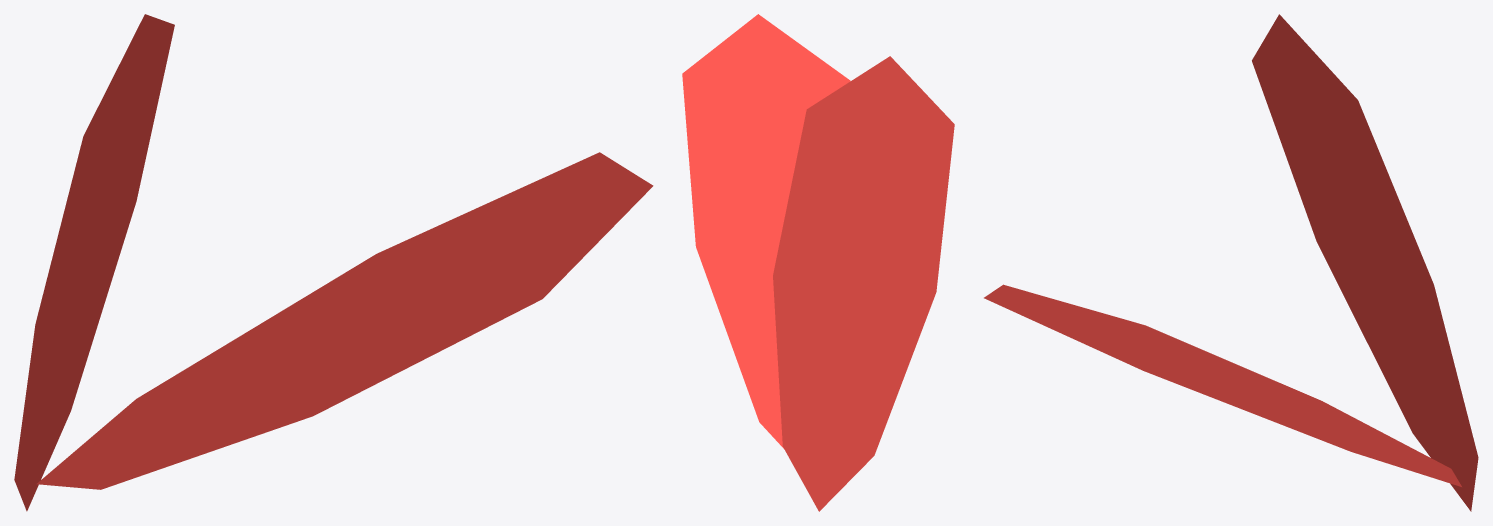
The model's file is birdfeather.fbx.
3 views of the same model, side by side, from view 1: azimuth 30°, elevation 25°; view 2: azimuth 150°, elevation 25°; view 3: azimuth 270°, elevation 25° (orthographic). The views are drawn at different scales.
Parts seen in each view (by area): view 1: feathers; view 2: feathers; view 3: feathers.
Boxes of the visible parts, box(x1,y1,x2,y2) form: feathers: box(14, 14, 653, 511); feathers: box(682, 14, 954, 511); feathers: box(984, 14, 1478, 511).
Bounding box in the file's own units: 5.83 × 6.9 × 6.17.
